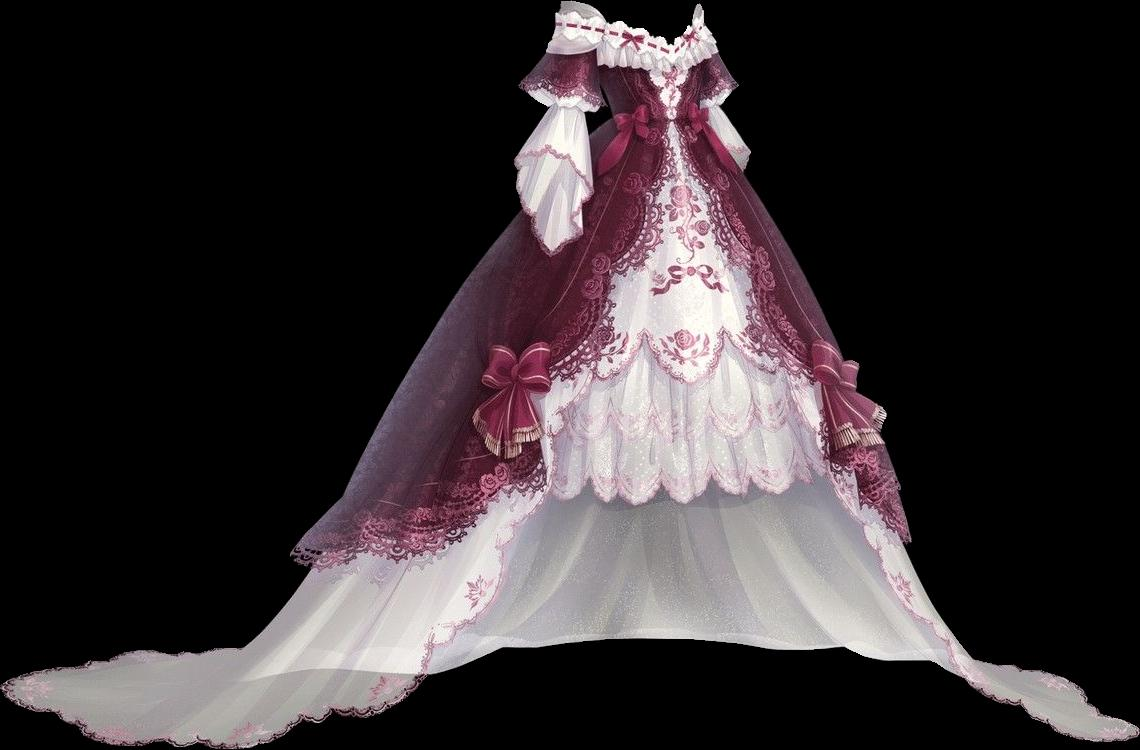Bodice: (596, 22, 717, 127)
Hemline: (0, 448, 558, 749), (290, 130, 674, 562), (683, 127, 910, 538), (827, 453, 1138, 745), (548, 330, 819, 439), (545, 466, 833, 507)
Skirt: (0, 116, 1139, 749)
Sleeve: (517, 1, 606, 255)
Sleeveline: (554, 6, 604, 26), (543, 46, 596, 64), (544, 102, 584, 119)
Waistline: (522, 82, 605, 107), (611, 112, 703, 132)
